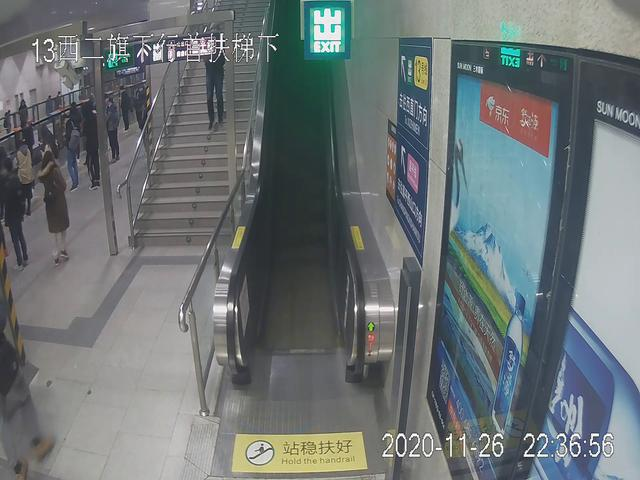person: (36, 149, 73, 265), (2, 157, 39, 272), (199, 31, 229, 127), (59, 115, 83, 191), (104, 93, 121, 168), (116, 84, 130, 132)
